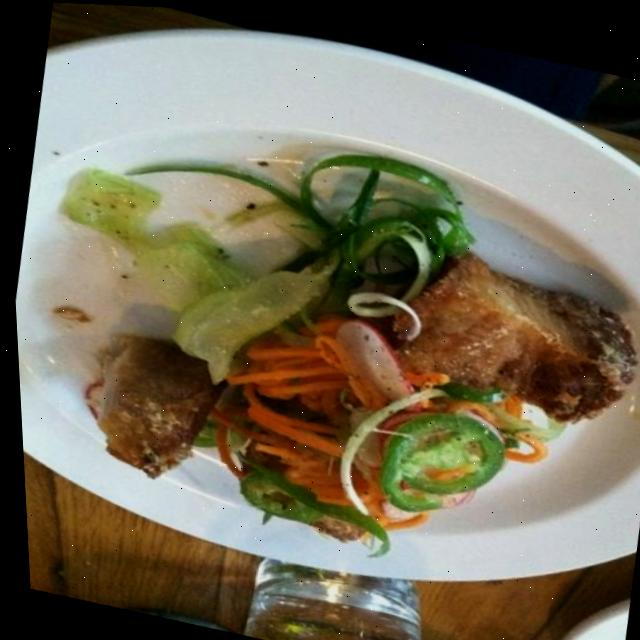牛肉菜式: (30, 36, 640, 640)
